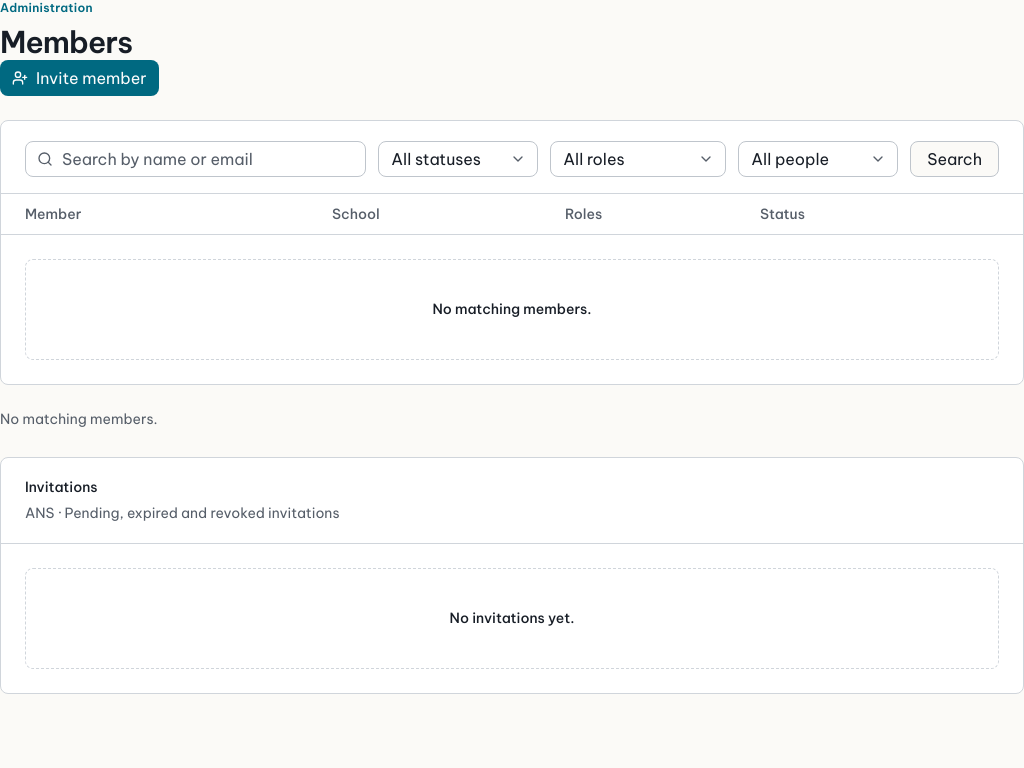
Test: MembersDirectory › shows invitation controls to a membership manager without member identity management
The image size is (1024, 768).
What coordinates should you click on to do the following:
click the button "Invite member"
I would click on:
 (79, 78)
Its box is [0, 60, 159, 96].
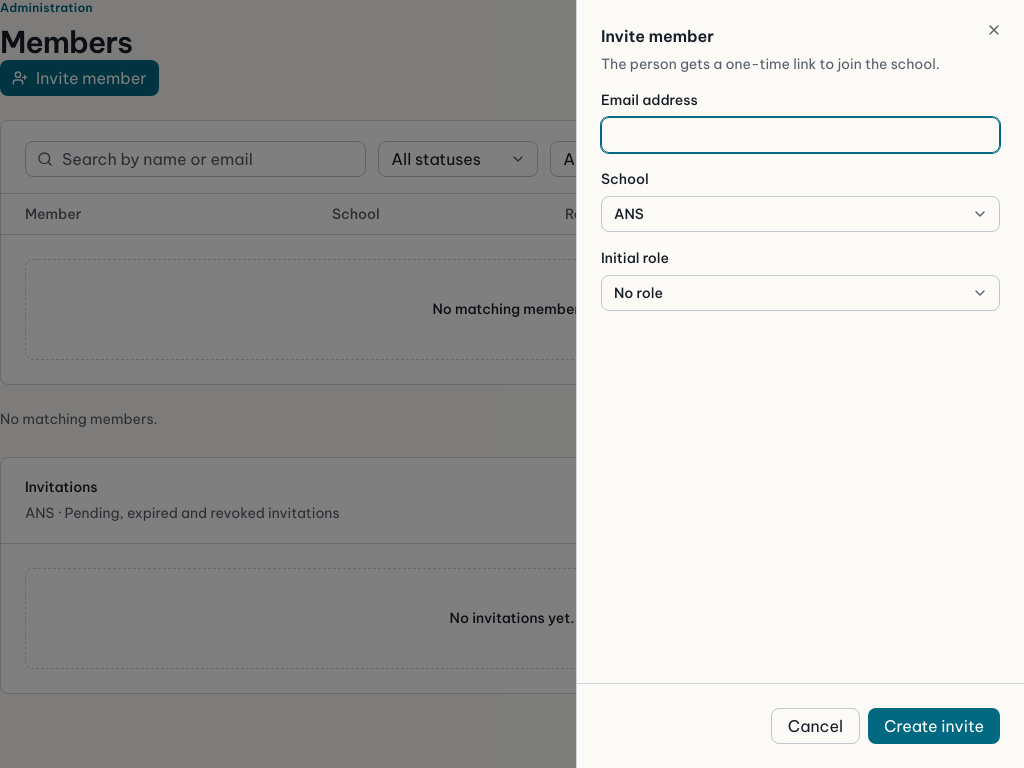
Expected: the field labelled "Email address" is shown, [601, 117, 1000, 153]
